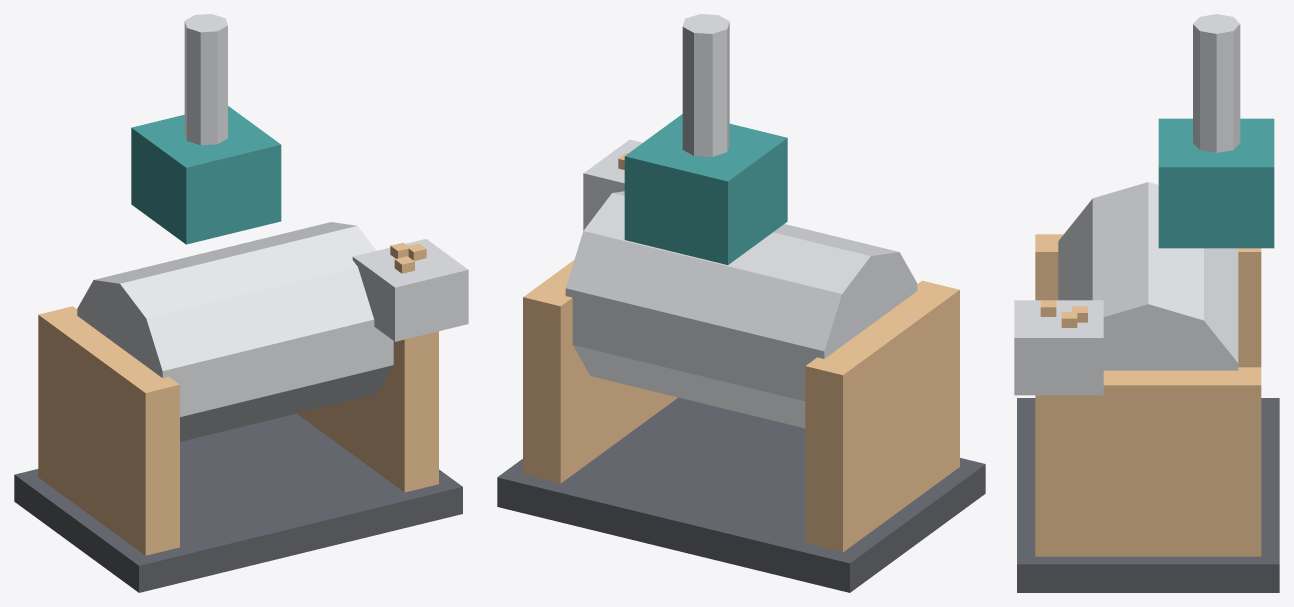
Rendered from chocolate-and-confectionery-factory-nut-roaster-8dce8adb__36763.glb.
3 renders of one model, left to right at view 1: azimuth 30°, elevation 25°; view 2: azimuth 150°, elevation 25°; view 3: azimuth 270°, elevation 25°, orthographic. The views are drawn at different scales.
Parts seen in each view (by area): view 1: nut-roaster, drum-nut/steel; view 2: nut-roaster, drum-nut/steel; view 3: nut-roaster, drum-nut/steel.
Boxes of the visible parts, bbox=[...] form: nut-roaster: bbox=[14, 14, 468, 592]; drum-nut/steel: bbox=[77, 222, 393, 441]; nut-roaster: bbox=[497, 14, 985, 592]; drum-nut/steel: bbox=[565, 191, 917, 428]; nut-roaster: bbox=[1014, 14, 1279, 592]; drum-nut/steel: bbox=[1058, 182, 1238, 370].
Bounding box in the file's own units: 1.52 × 2.04 × 1.01.
